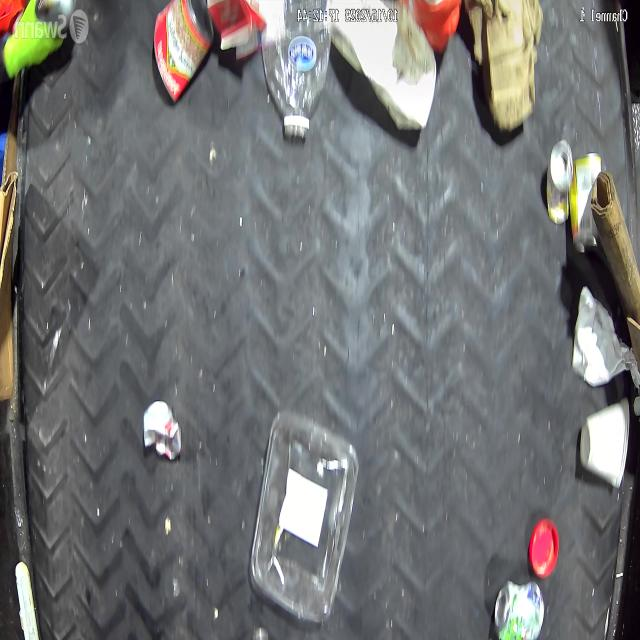can: (150, 2, 214, 101), (486, 578, 553, 640), (570, 152, 602, 255), (545, 140, 573, 224)
plastic_bottle: (253, 0, 335, 137)
